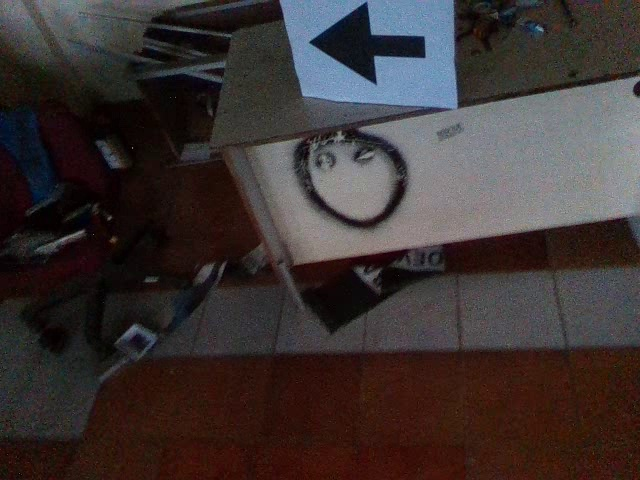Left: (306, 0, 433, 94)
